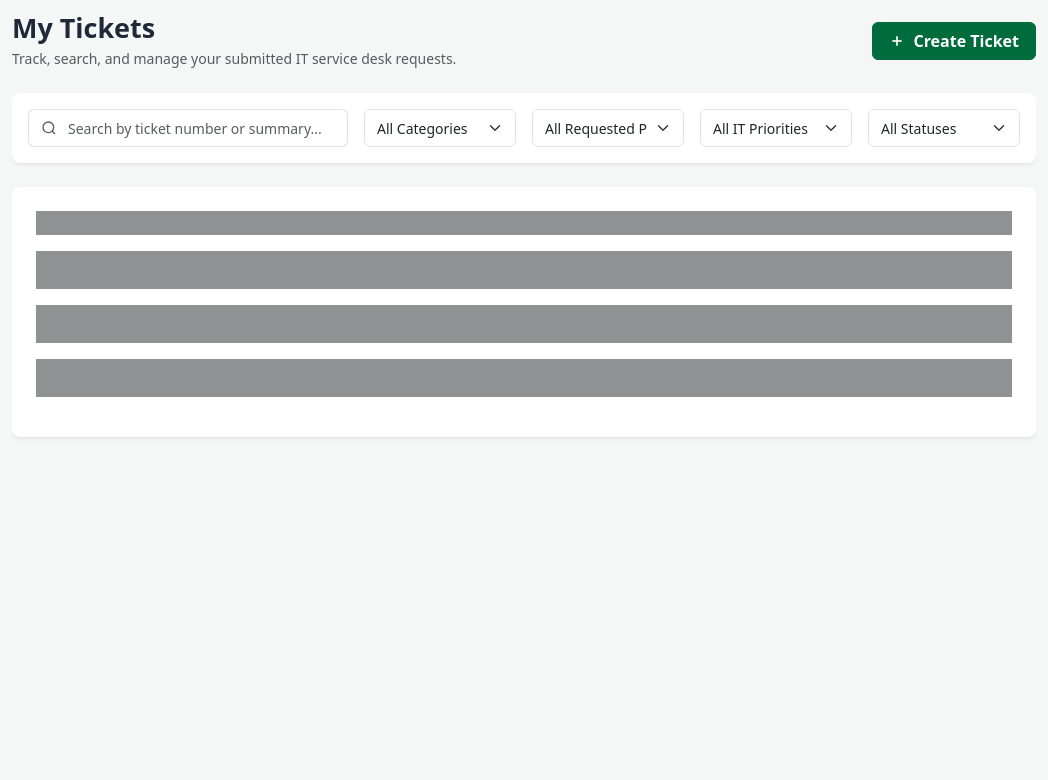
Component: MyTickets (Feature 8 - UI-06, AC-04-01..05) › renders No-Results State when filters match 0 tickets (AC-04-04)
Type into search to make filters active
Type "nonexistent query" into the field with placeholder "Search by ticket number or summary...". click: {"x": 208, "y": 128}
box: [68,109,348,147]
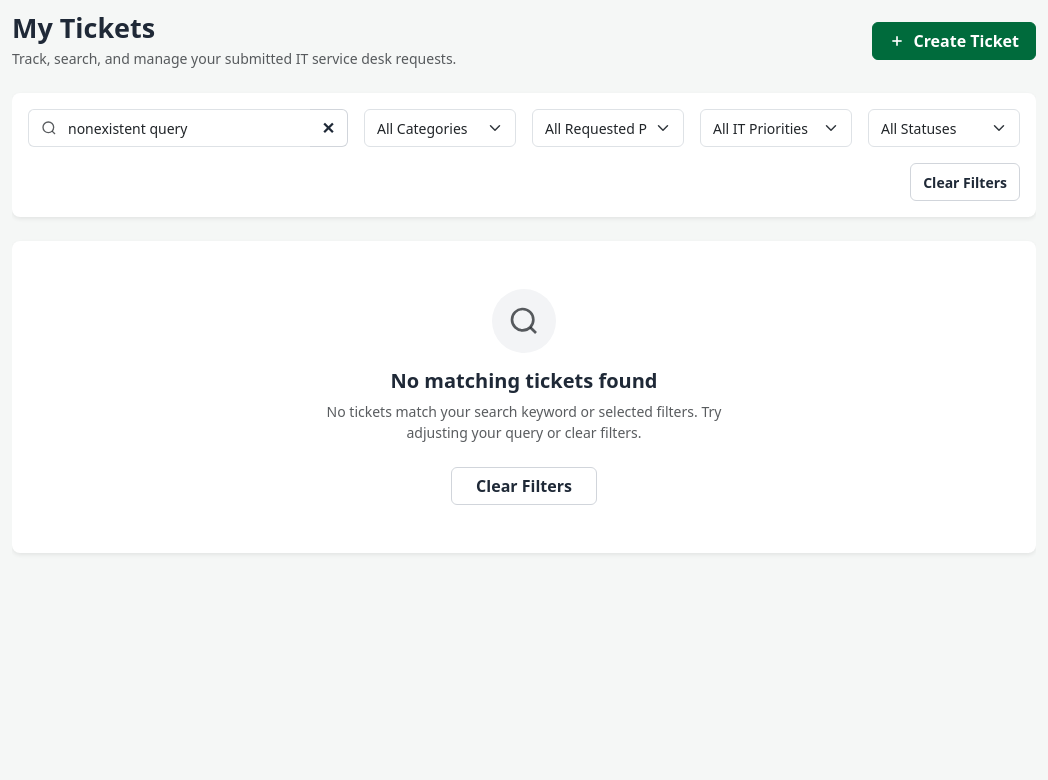
Result: the heading "No matching tickets found" is shown at [390,367,657,394]
